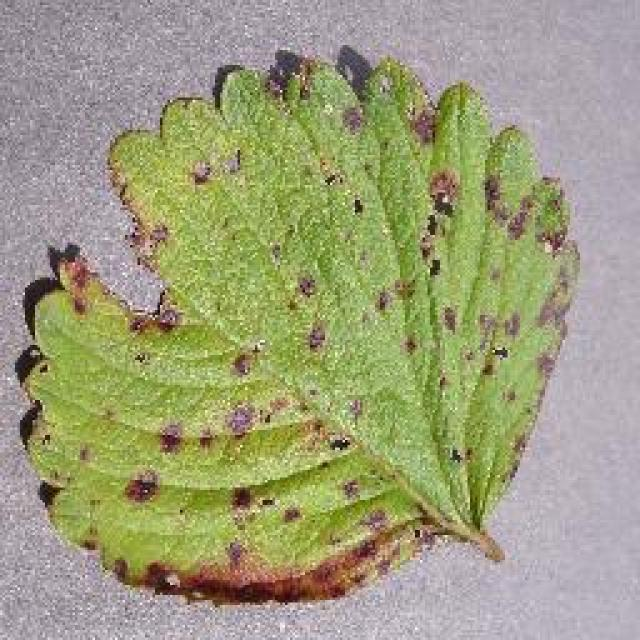Strawberry leaf scorch: (137, 126, 523, 492)
